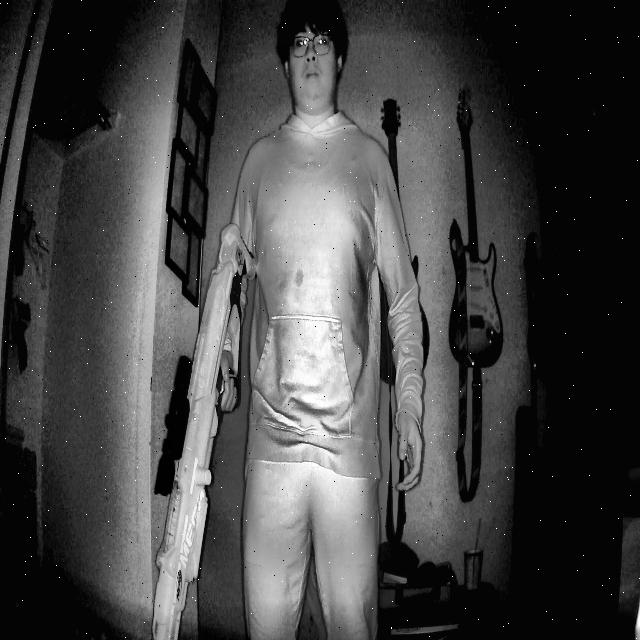Nerf_Blaster: (149, 206, 261, 640)
